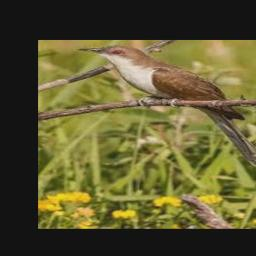Cuckoo: (77, 46, 256, 170)
